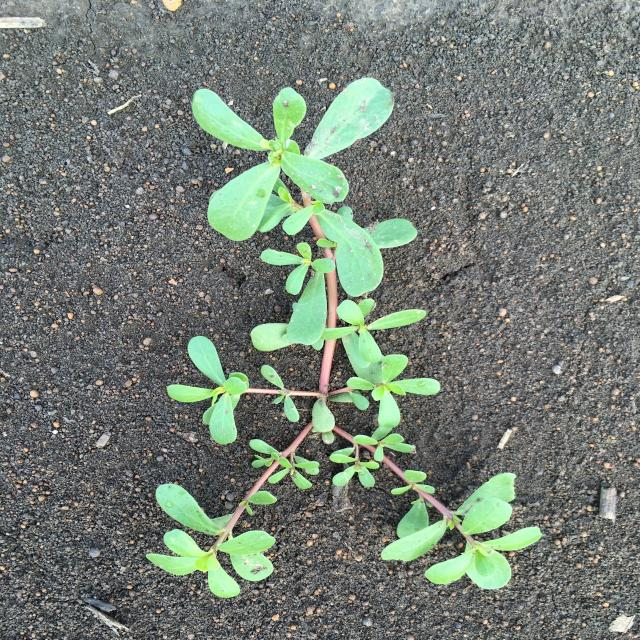Purslane: (145, 77, 543, 598)
